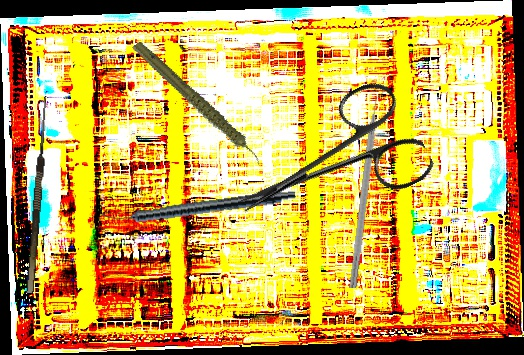Chopper: (349, 86, 392, 290)
Handpiece: (131, 21, 263, 189), (101, 184, 297, 229)
Hook Surgical: (15, 94, 51, 294)
Iris Scissors: (218, 72, 438, 259)
